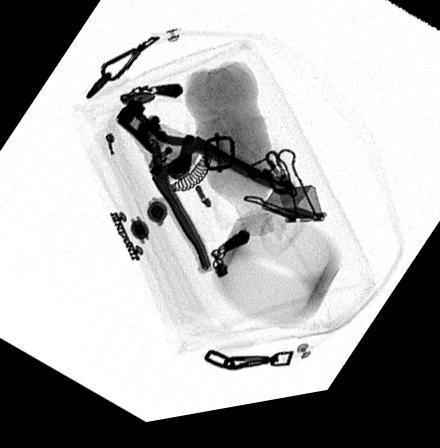Pliers: (113, 102, 285, 279)
